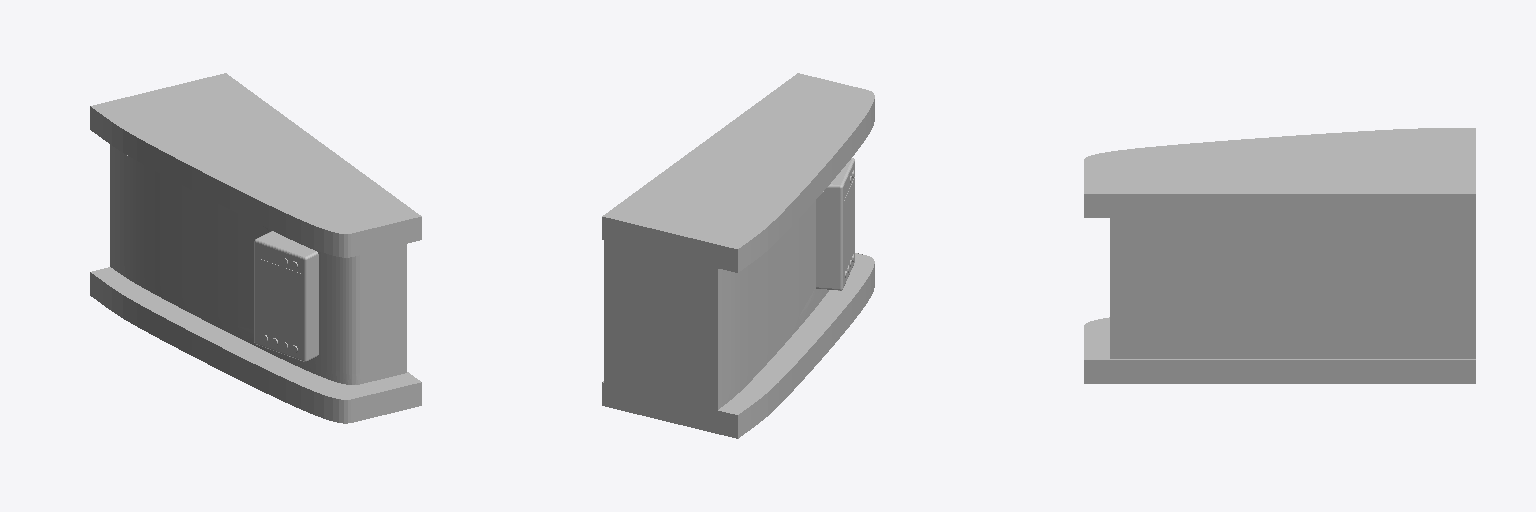
Rendered from Kontrollpult.obj.
3 renders of one model, left to right at view 1: azimuth 30°, elevation 25°; view 2: azimuth 150°, elevation 25°; view 3: azimuth 270°, elevation 25°, orthographic.
Parts seen in each view (by area): view 1: default; view 2: default; view 3: default.
Part boxes in pixels (bbox=[...]): default: bbox=[90, 73, 421, 423]; default: bbox=[602, 73, 874, 438]; default: bbox=[1084, 128, 1475, 383].
Size of the model in its own units: 60 by 80 by 150.